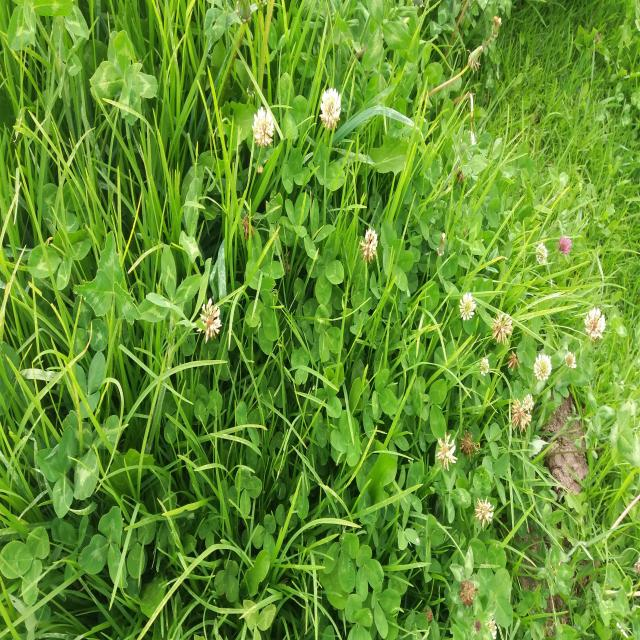Four Leaf Clover: (306, 232, 344, 306), (245, 227, 284, 290)
